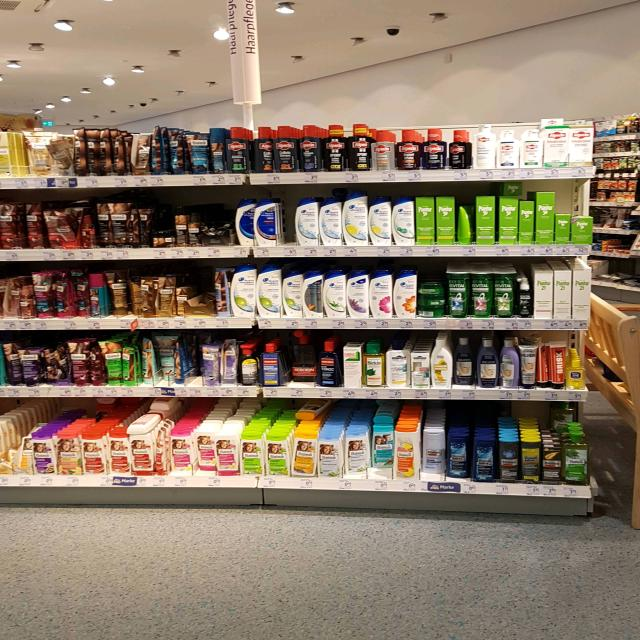empty: (188, 266, 216, 321)
